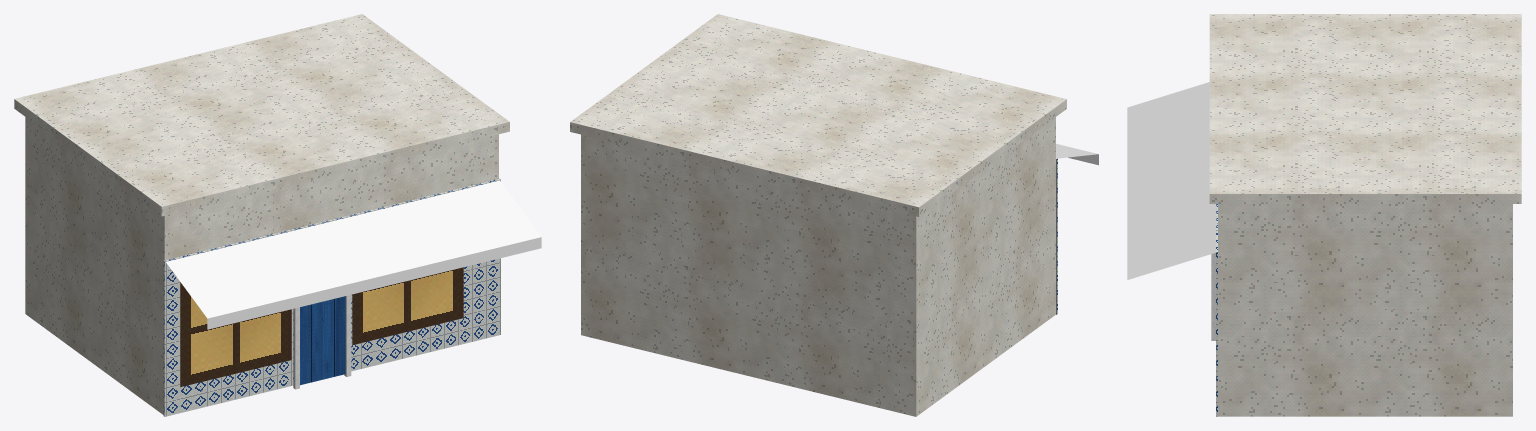
The model's file is tienda_blanca.obj.
3 views of the same model, side by side, from view 1: azimuth 30°, elevation 25°; view 2: azimuth 150°, elevation 25°; view 3: azimuth 270°, elevation 25° (orthographic). The views are drawn at different scales.
Parts seen in each view (by area): view 1: tienda_blanca; view 2: tienda_blanca; view 3: tienda_blanca.
Boxes of the visible parts, x1,y1,x2,y2 form: tienda_blanca: (14,14,541,416); tienda_blanca: (570,14,1098,416); tienda_blanca: (1127,14,1521,416).
Size of the model in its own units: 7.5 by 4.45 by 6.95.
Materials: 6 (5 with a texture image).
